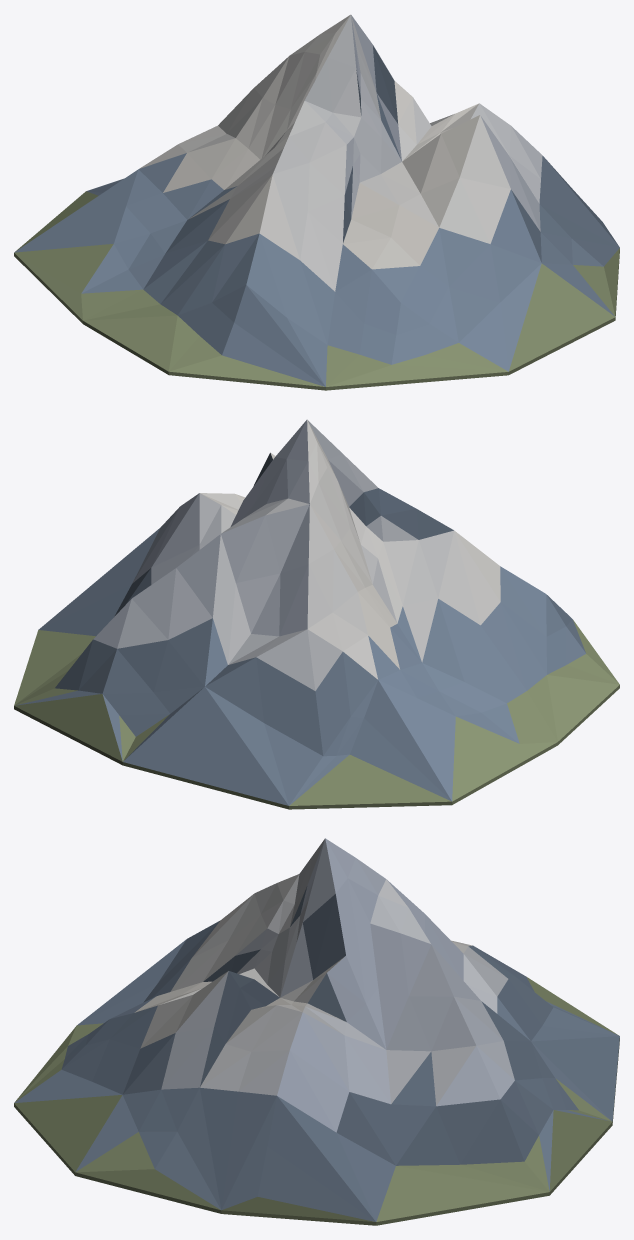
File: massif_frost_crown.glb
The picture shows the model from 3 angles, top to bottom: view 1: azimuth 30°, elevation 25°; view 2: azimuth 150°, elevation 25°; view 3: azimuth 270°, elevation 25°; orthographic projection. The views are drawn at different scales.
Visible parts, largest first — view 1: massif_frost_crown; view 2: massif_frost_crown; view 3: massif_frost_crown.
Part boxes in pixels (x1,y1,x2,y2): massif_frost_crown: (14, 14, 619, 390); massif_frost_crown: (14, 419, 619, 809); massif_frost_crown: (14, 838, 619, 1225).
Bounding box in the file's own units: 975 × 472 × 980.
